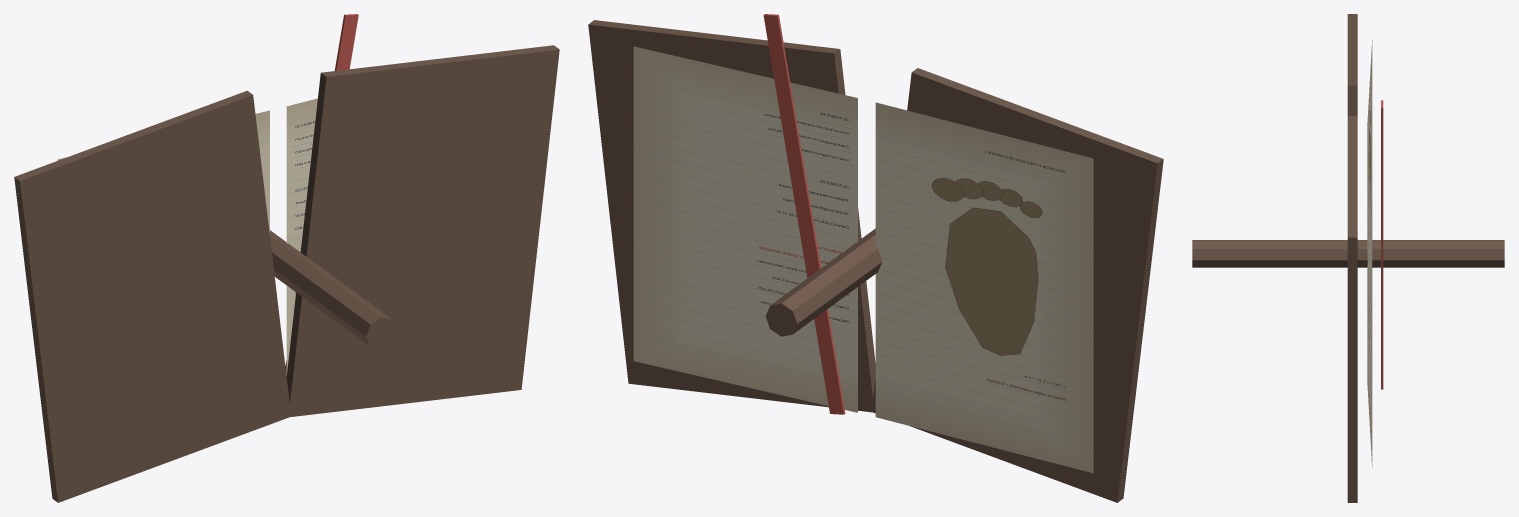
The model's file is prop_field_journal.glb.
3 views of the same model, side by side, from view 1: azimuth 30°, elevation 25°; view 2: azimuth 150°, elevation 25°; view 3: azimuth 270°, elevation 25° (orthographic). The views are drawn at different scales.
Parts seen in each view (by area): view 1: Prop_FieldJournal; view 2: Prop_FieldJournal; view 3: Prop_FieldJournal.
Part boxes in pixels (box(x1,y1,x2,y2)): Prop_FieldJournal: box(14, 14, 559, 502); Prop_FieldJournal: box(588, 14, 1163, 502); Prop_FieldJournal: box(1192, 14, 1504, 502).
Size of the model in its own units: 0.6435 by 0.4534 by 0.38.
3 materials, 1 textured.
